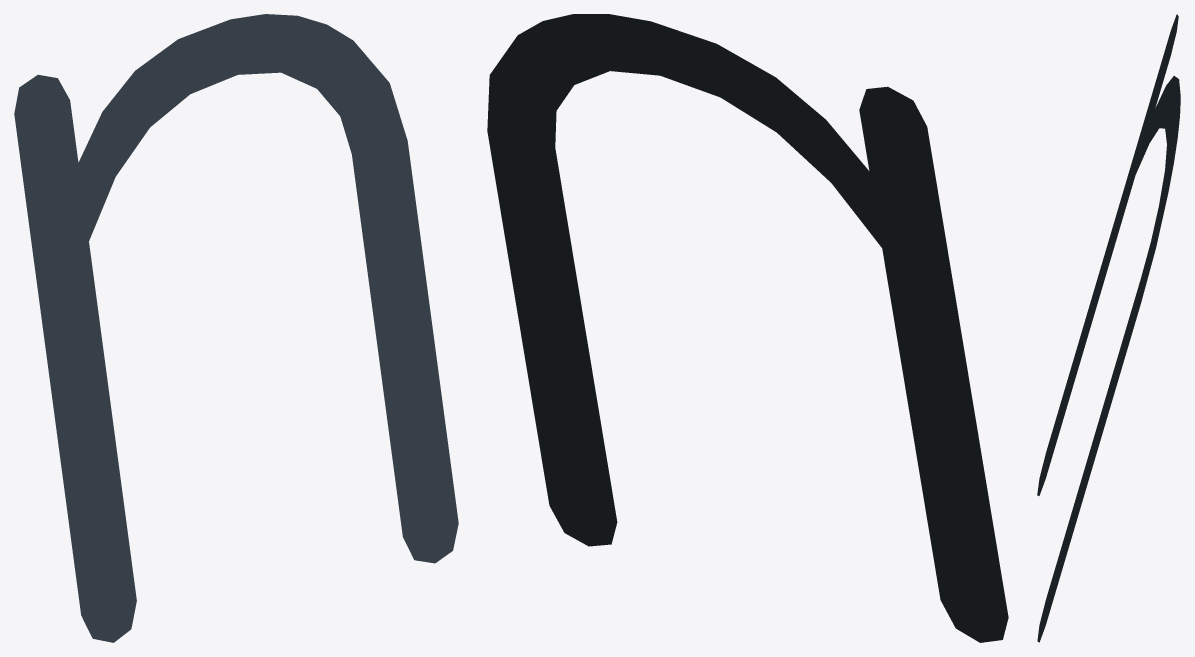
The model's file is original-11.obj.
The picture shows the model from 3 angles, left to right: view 1: azimuth 30°, elevation 25°; view 2: azimuth 150°, elevation 25°; view 3: azimuth 270°, elevation 25°; orthographic projection. The views are drawn at different scales.
Visible parts, largest first — view 1: mesh10/mesh10-geometry#mesh10-geometry; view 2: mesh10/mesh10-geometry#mesh10-geometry; view 3: mesh10/mesh10-geometry#mesh10-geometry.
Part boxes in pixels (box(x1,y1,x2,y2)): mesh10/mesh10-geometry#mesh10-geometry: box(14, 14, 458, 642); mesh10/mesh10-geometry#mesh10-geometry: box(487, 14, 1008, 642); mesh10/mesh10-geometry#mesh10-geometry: box(1037, 14, 1180, 642).
Size of the model in its own units: 0.0453 by 0.0596 by 0.016.
